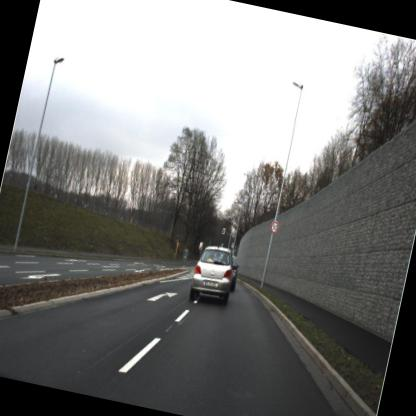prohibitory: (264, 215, 283, 239)
